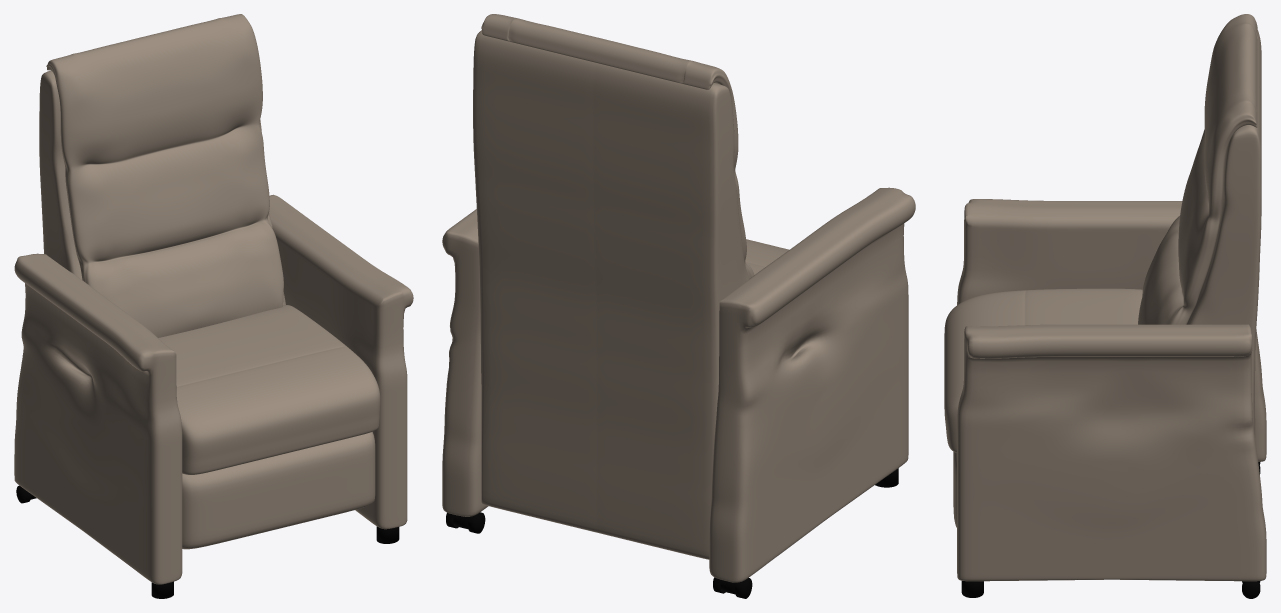
The picture shows the model from 3 angles, left to right: view 1: azimuth 30°, elevation 25°; view 2: azimuth 150°, elevation 25°; view 3: azimuth 270°, elevation 25°; orthographic projection. The views are drawn at different scales.
Parts seen in each view (by area): view 1: Plane_004; view 2: Plane_004; view 3: Plane_004.
Part boxes in pixels (x1=…): Plane_004: x1=14, y1=14, x2=413, y2=598; Plane_004: x1=442, y1=14, x2=915, y2=598; Plane_004: x1=944, y1=14, x2=1266, y2=598.
Size of the model in its own units: 0.7664 by 1.16 by 0.7211.
Materials: 2 (1 with a texture image).
